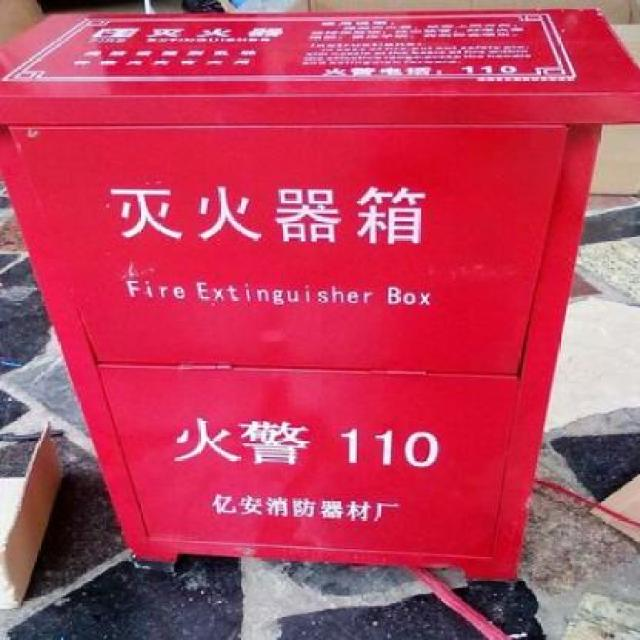firehydrant: (0, 3, 640, 587)
